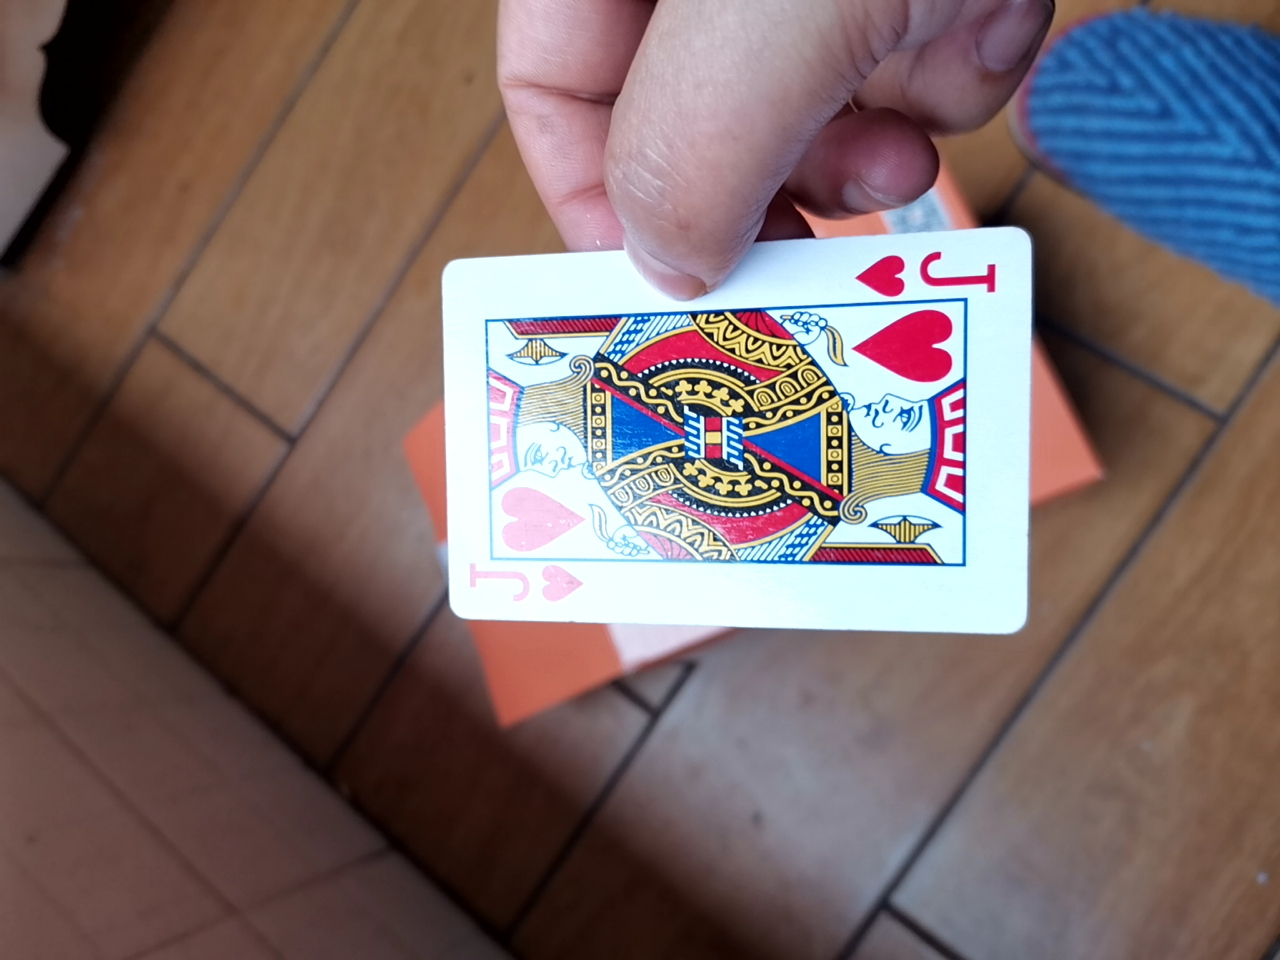hx j: (421, 212, 1046, 646)
